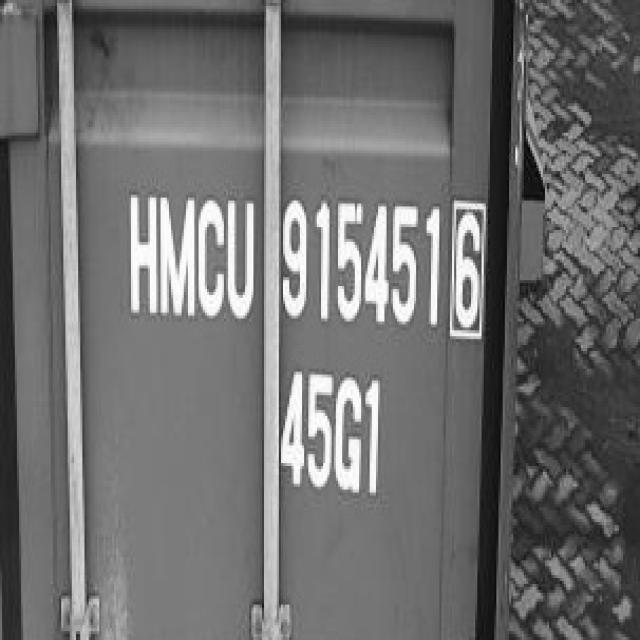dv: (447, 187, 490, 349)
owner: (120, 172, 260, 333)
serial: (282, 178, 445, 346)
size: (279, 360, 395, 504)
